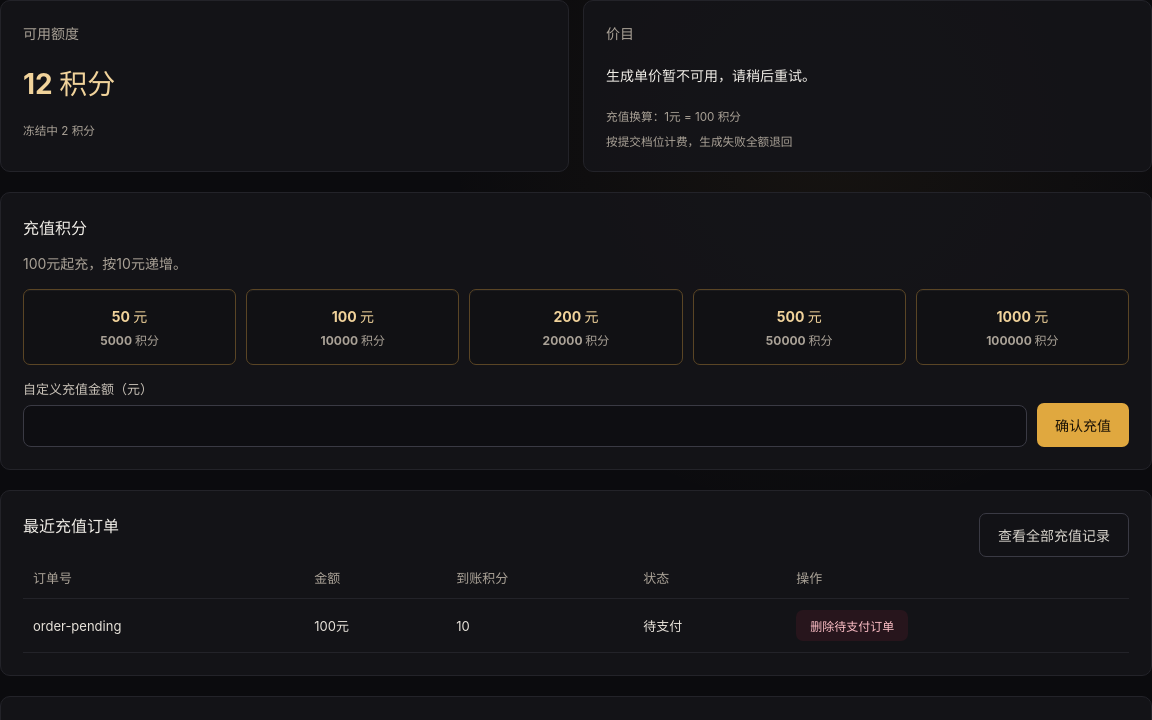
CustomerWalletPanel › preserves an order-action error after the initial ledger and a late success poll
Expected: the text "order-pending" is shown, left=23, top=598, right=304, bottom=652
What coordinates should you click on to do the following:
click the button "删除待支付订单"
I would click on:
 (852, 626)
Its box is left=796, top=610, right=908, bottom=641.
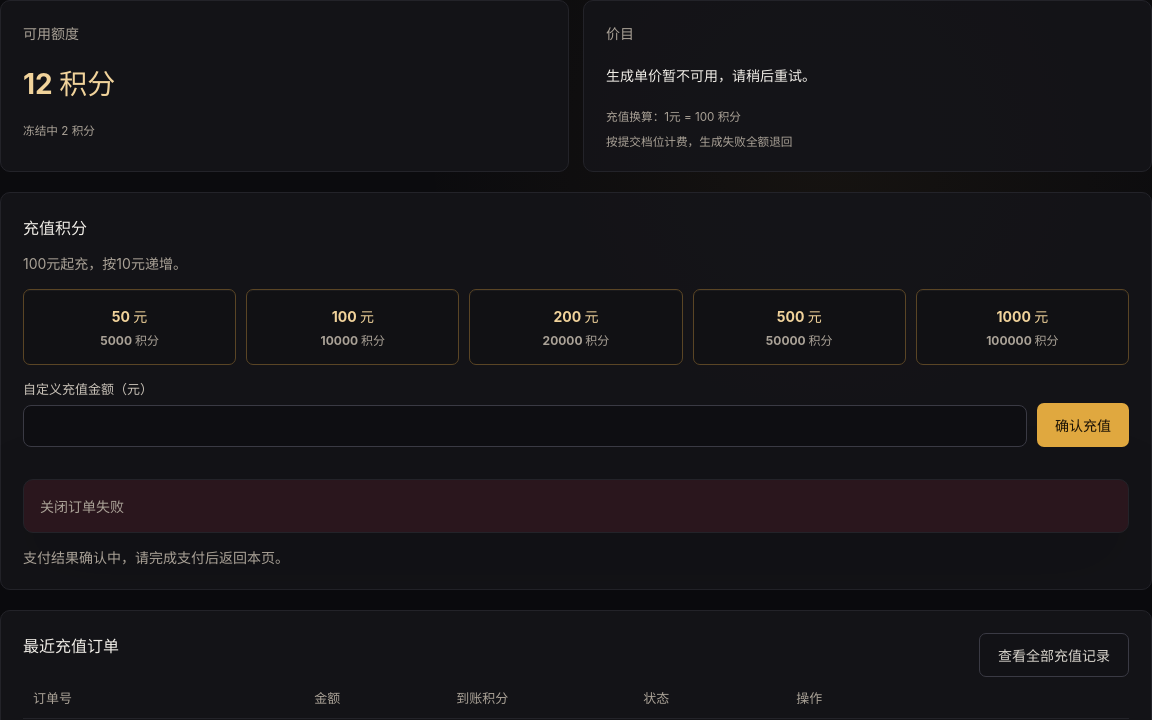
Result: the text "关闭订单失败" is shown at left=23, top=479, right=1129, bottom=533
